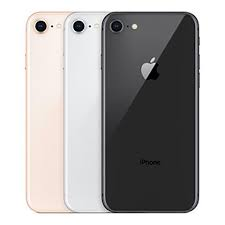iphone: (98, 9, 200, 213)
